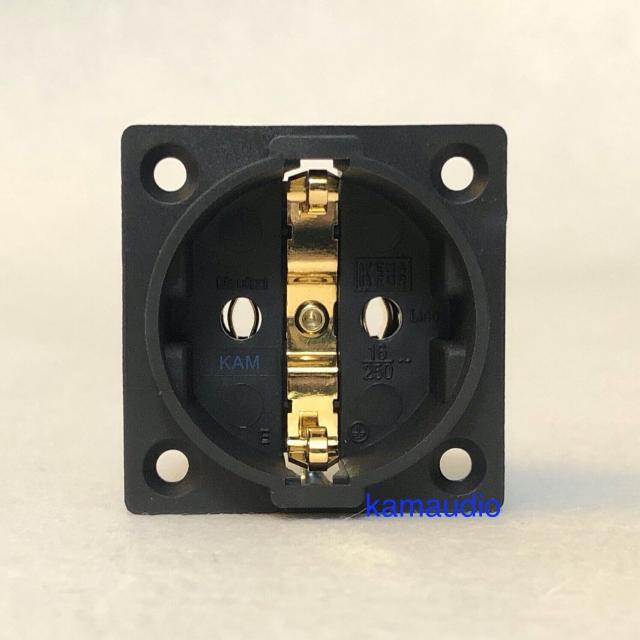typeb: (92, 100, 553, 558)
